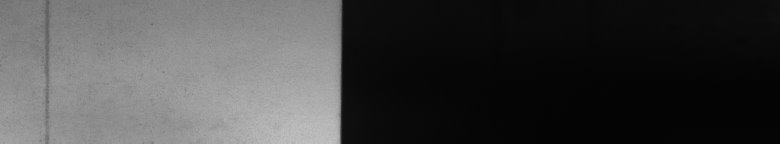hd: (40, 4, 55, 136)
